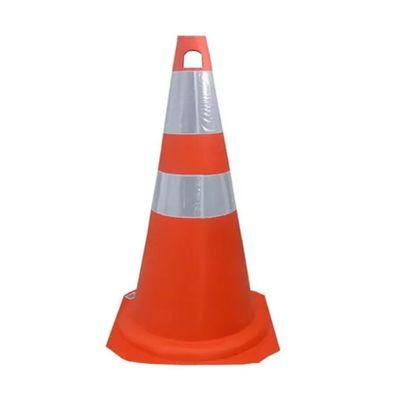traffic_cone: (105, 34, 281, 366)
